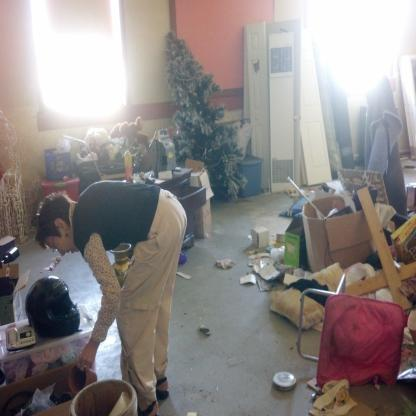Helmet: (25, 275, 81, 335)
